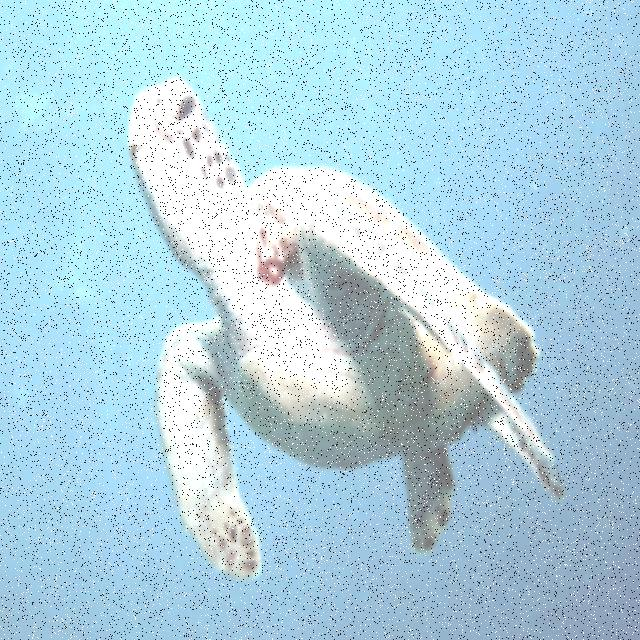tortoise: (90, 79, 576, 573)
